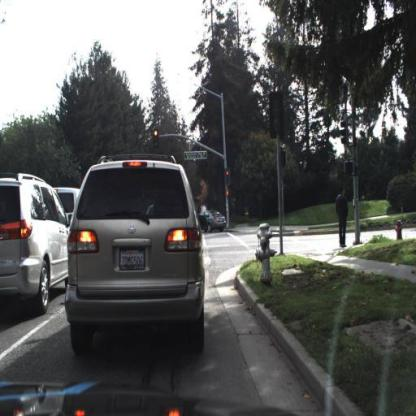car: (65, 155, 207, 355), (1, 171, 73, 314), (56, 181, 81, 224)
pedestrian: (336, 185, 350, 246)
trafficLight-Red: (153, 130, 161, 151), (224, 170, 231, 188)
